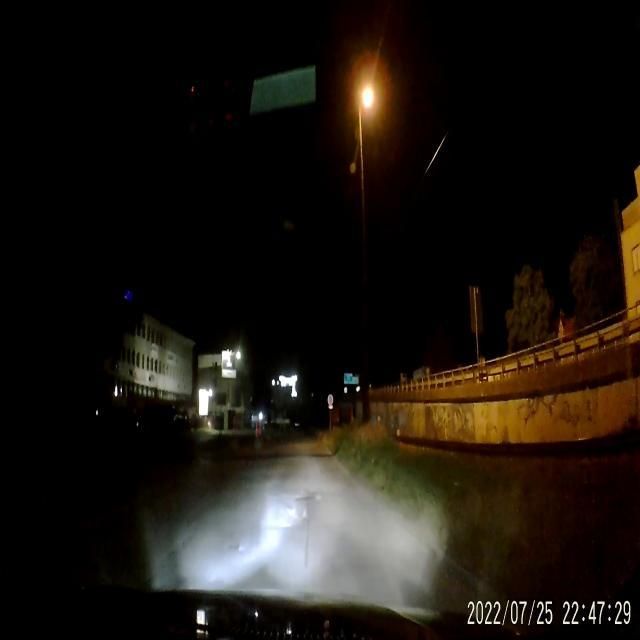Manhole: (294, 492, 318, 502)
